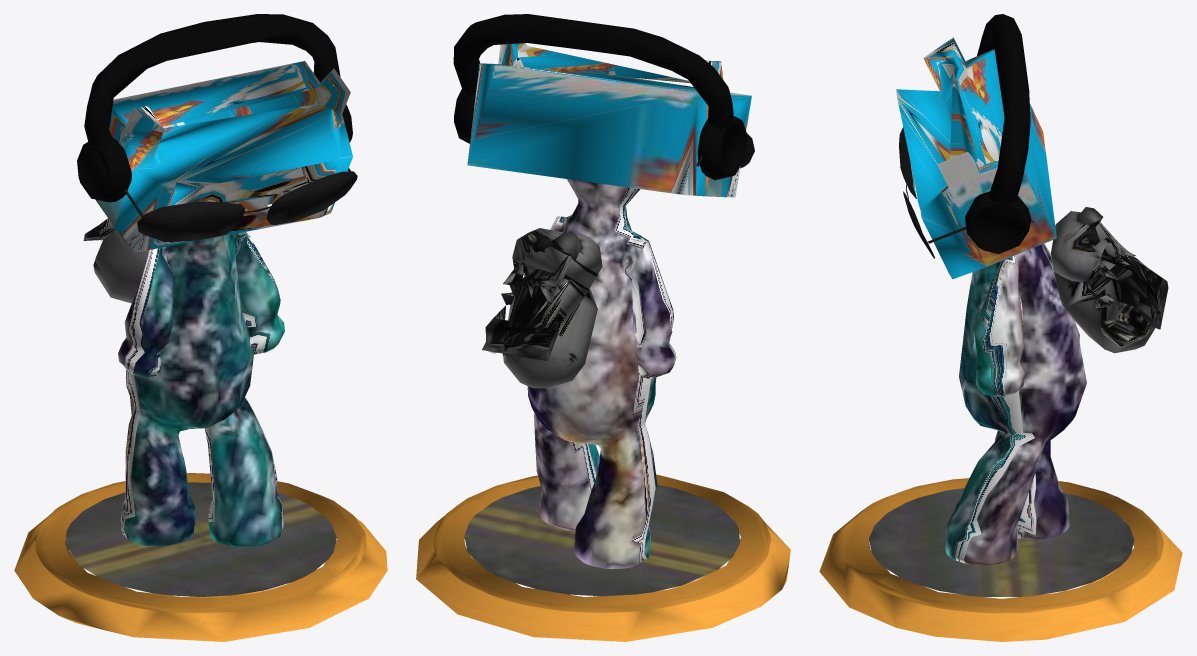
The picture shows the model from 3 angles, left to right: view 1: azimuth 30°, elevation 25°; view 2: azimuth 150°, elevation 25°; view 3: azimuth 270°, elevation 25°; orthographic projection. The views are drawn at different scales.
Bounding box in the file's own units: 1.45 × 2.28 × 1.44.
7 materials, 5 textured.
